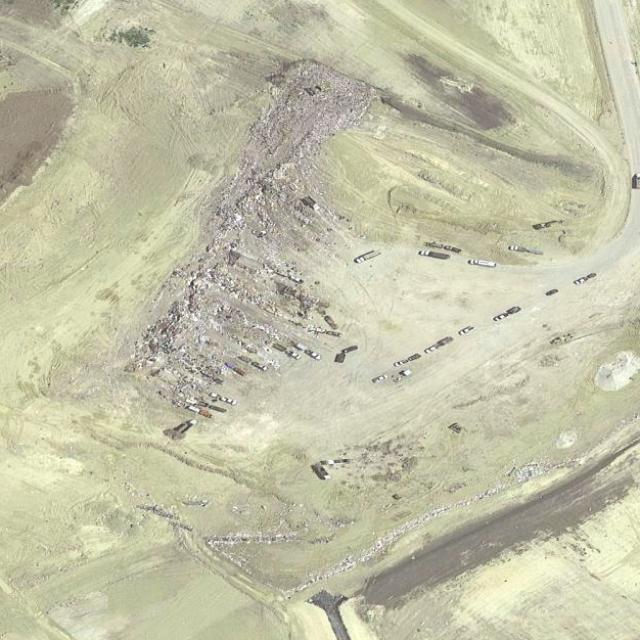dump_site: (105, 45, 445, 445)
